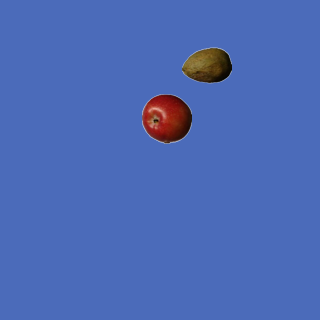Apple Braeburn: (141, 93, 191, 143)
Papaya: (181, 40, 231, 90)
